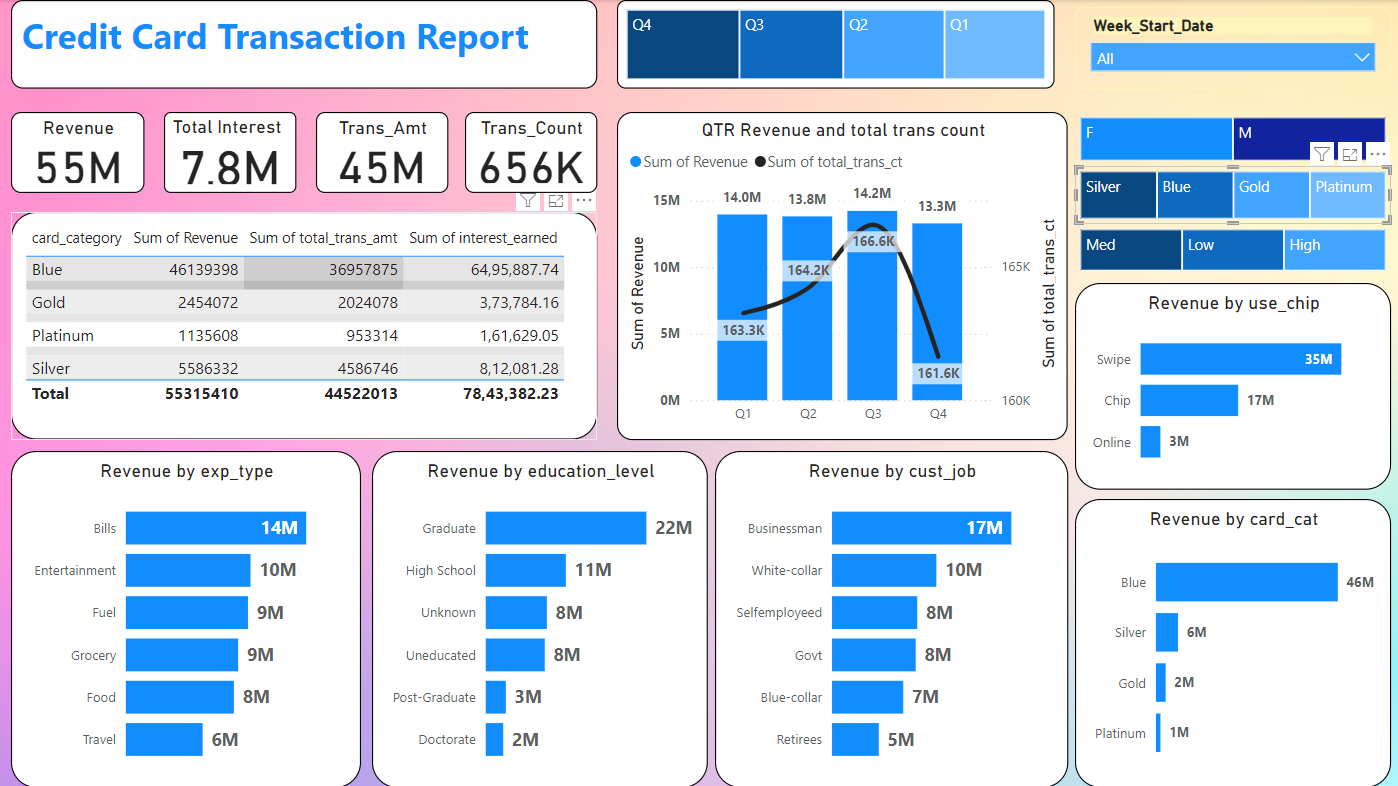

This screenshot's page, from the dashboard's own definition file:
{"tool":"powerbi","page":{"name":"Page 2","canvas":[1280,720],"ordinal":1},"visuals":[{"type":"textbox","box":[10.1,0,535.8,81.4],"z":0},{"type":"lineStackedColumnComboChart","title":"QTR Revenue and total trans count","fields":{"Category":["public cc_detail.qtr"],"Y":["Sum(public cc_detail.Revenue)"],"Y2":["Sum(public cc_detail.total_trans_ct)"]},"box":[564.1,102.4,412.3,299.9],"z":1000},{"type":"barChart","title":"Revenue by exp_type","fields":{"Y":["Sum(public cc_detail.Revenue)"],"Category":["public cc_detail.exp_type"]},"box":[10.1,412.3,320,308.1],"z":2000},{"type":"barChart","title":"Revenue by education_level","fields":{"Y":["Sum(public cc_detail.Revenue)"],"Category":["public cust_detail.education_level"]},"box":[340.1,412.3,307.2,308.1],"z":3000},{"type":"barChart","title":"Revenue by cust_job","fields":{"Y":["Sum(public cc_detail.Revenue)"],"Category":["public cust_detail.customer_job"]},"box":[653.7,412.3,322.7,308.1],"z":4000},{"type":"barChart","title":"Revenue by card_cat","fields":{"Y":["Sum(public cc_detail.Revenue)"],"Category":["public cc_detail.card_category"]},"box":[982.9,456.2,288.9,264.2],"z":5000},{"type":"barChart","title":"Revenue by use_chip","fields":{"Y":["Sum(public cc_detail.Revenue)"],"Category":["public cc_detail.use_chip"]},"box":[982.9,258.7,288.9,189.3],"z":6000},{"type":"tableEx","fields":{"Values":["public cc_detail.card_category","Sum(public cc_detail.Revenue)","Sum(public cc_detail.total_trans_amt)","Sum(public cc_detail.interest_earned)"]},"box":[10.1,193.8,535.8,208.5],"z":7000},{"type":"card","title":"Revenue","fields":{"Values":["Sum(public cc_detail.Revenue)"]},"box":[10.1,102.4,121.6,74.1],"z":8000},{"type":"card","title":"Total Interest","fields":{"Values":["Sum(public cc_detail.interest_earned)"]},"box":[149.9,102.4,120.7,74.1],"z":9000},{"type":"card","title":"Trans_Amt","fields":{"Values":["Sum(public cc_detail.total_trans_amt)"]},"box":[288.9,102.4,120.7,74.1],"z":10000},{"type":"card","title":"Trans_Count","fields":{"Values":["Sum(public cc_detail.total_trans_ct)"]},"box":[425.1,102.4,120.7,74.1],"z":11000},{"type":"slicer","fields":{"Values":["public cc_detail.week_start_date"]},"box":[982.9,6.4,288.9,75],"z":12000},{"type":"treemap","fields":{"Group":["public cc_detail.qtr"],"Values":["Avg(public cc_detail.client_num)"]},"box":[564.1,0,400.5,81.4],"z":13000},{"type":"treemap","fields":{"Group":["public cust_detail.gender"],"Values":["Avg(public cc_detail.client_num)"]},"box":[982.9,102.4,288.9,49.4],"z":14000},{"type":"treemap","fields":{"Values":["Avg(public cc_detail.client_num)"],"Group":["public cc_detail.card_category"]},"box":[982.9,151.8,288.9,53],"z":15000},{"type":"treemap","fields":{"Values":["Avg(public cc_detail.client_num)"],"Group":["public cust_detail.IncomeGroup"]},"box":[982.9,204.8,288.9,47.5],"z":16000}]}

Visuals, with their boxes in screenshot pixels (x1, y1, x2, y2), scaled from the page's 1280x720 canvas onto the 1398x786 screenshot:
textbox: bbox=[11, 0, 596, 89]
"QTR Revenue and total trans count" lineStackedColumnComboChart: bbox=[616, 112, 1066, 439]
"Revenue by exp_type" barChart: bbox=[11, 450, 361, 785]
"Revenue by education_level" barChart: bbox=[371, 450, 707, 785]
"Revenue by cust_job" barChart: bbox=[714, 450, 1066, 785]
"Revenue by card_cat" barChart: bbox=[1074, 498, 1389, 785]
"Revenue by use_chip" barChart: bbox=[1074, 282, 1389, 489]
tableEx - public cc_detail.card_category x Sum(public cc_detail.Revenue): bbox=[11, 212, 596, 439]
"Revenue" card: bbox=[11, 112, 144, 193]
"Total Interest" card: bbox=[164, 112, 296, 193]
"Trans_Amt" card: bbox=[316, 112, 447, 193]
"Trans_Count" card: bbox=[464, 112, 596, 193]
slicer - public cc_detail.week_start_date: bbox=[1074, 7, 1389, 89]
treemap - public cc_detail.qtr x Avg(public cc_detail.client_num): bbox=[616, 0, 1054, 89]
treemap - public cust_detail.gender x Avg(public cc_detail.client_num): bbox=[1074, 112, 1389, 166]
treemap - Avg(public cc_detail.client_num) x public cc_detail.card_category: bbox=[1074, 166, 1389, 224]
treemap - Avg(public cc_detail.client_num) x public cust_detail.IncomeGroup: bbox=[1074, 224, 1389, 275]
